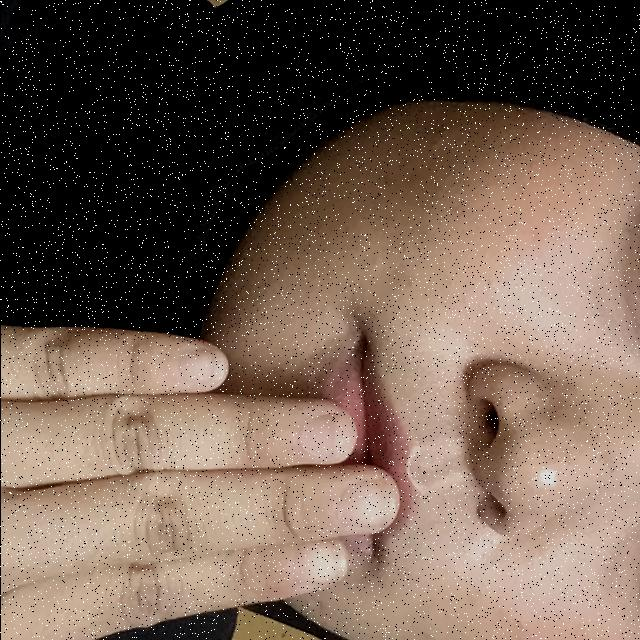ganteng: (0, 250, 454, 640)
